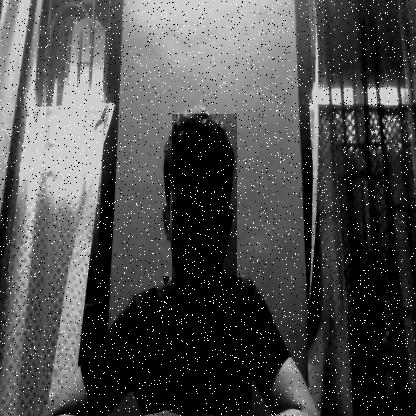Normal: (172, 114, 237, 306)
